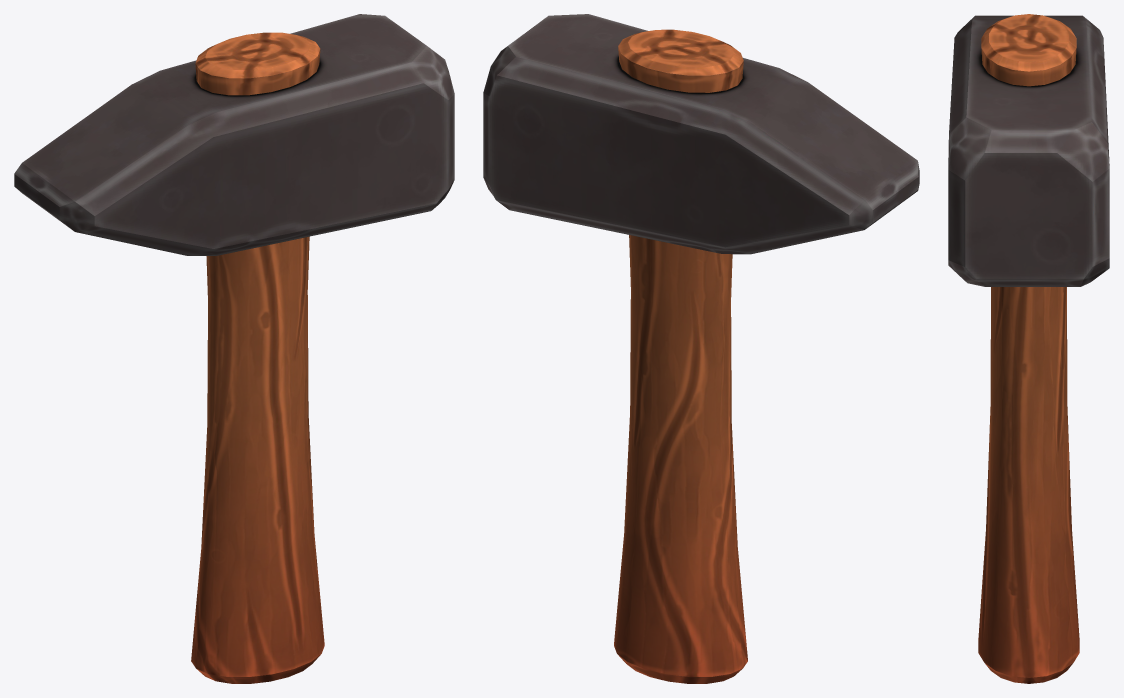
The model's file is Hammer.fbx.
The picture shows the model from 3 angles, left to right: view 1: azimuth 30°, elevation 25°; view 2: azimuth 150°, elevation 25°; view 3: azimuth 270°, elevation 25°; orthographic projection.
Parts seen in each view (by area): view 1: SM_Stylized_Hammer_01a; view 2: SM_Stylized_Hammer_01a; view 3: SM_Stylized_Hammer_01a.
Boxes of the visible parts, <box> form: SM_Stylized_Hammer_01a: <box>14,14,454,683</box>; SM_Stylized_Hammer_01a: <box>483,14,919,683</box>; SM_Stylized_Hammer_01a: <box>948,14,1109,683</box>.
Size of the model in its own units: 26.16 by 40 by 9.44.
Materials: 1 (1 with a texture image).
